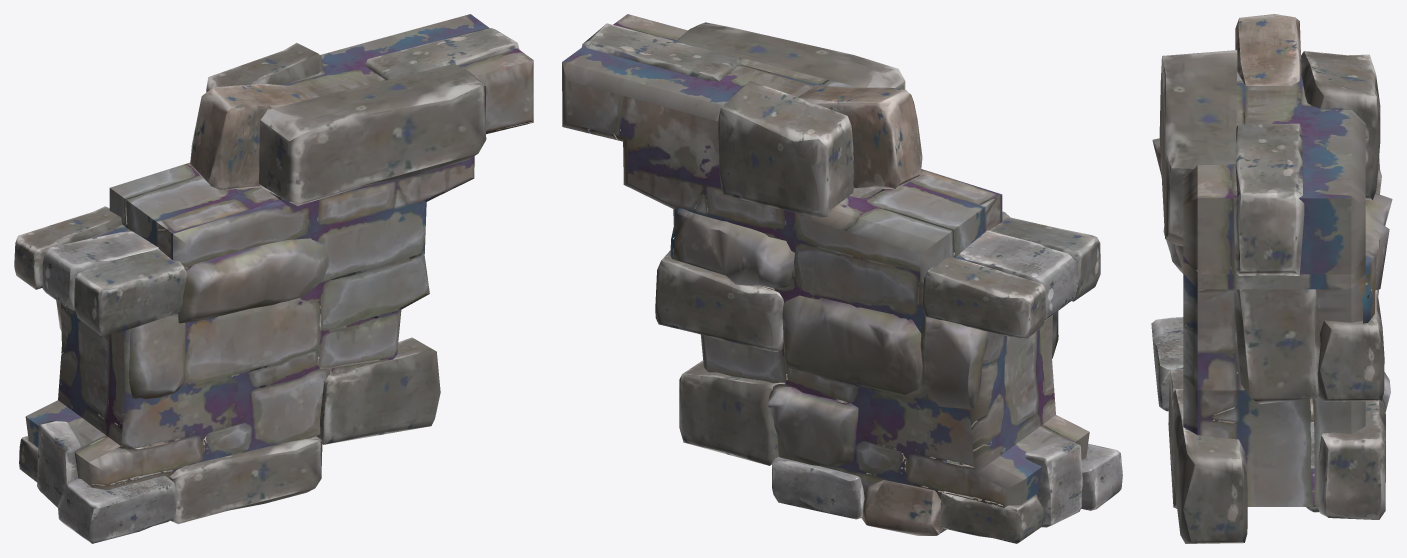
3 renders of one model, left to right at view 1: azimuth 30°, elevation 25°; view 2: azimuth 150°, elevation 25°; view 3: azimuth 270°, elevation 25°, orthographic. The views are drawn at different scales.
Parts seen in each view (by area): view 1: SM_Castle_Wall_Ruin_01_LOD0; view 2: SM_Castle_Wall_Ruin_01_LOD0; view 3: SM_Castle_Wall_Ruin_01_LOD0.
Boxes of the visible parts, x1,y1,x2,y2 form: SM_Castle_Wall_Ruin_01_LOD0: (14,14,533,543); SM_Castle_Wall_Ruin_01_LOD0: (562,14,1122,543); SM_Castle_Wall_Ruin_01_LOD0: (1151,14,1392,543).
Size of the model in its own units: 2.65 by 2.07 by 0.9675.
2 materials, 2 textured.
